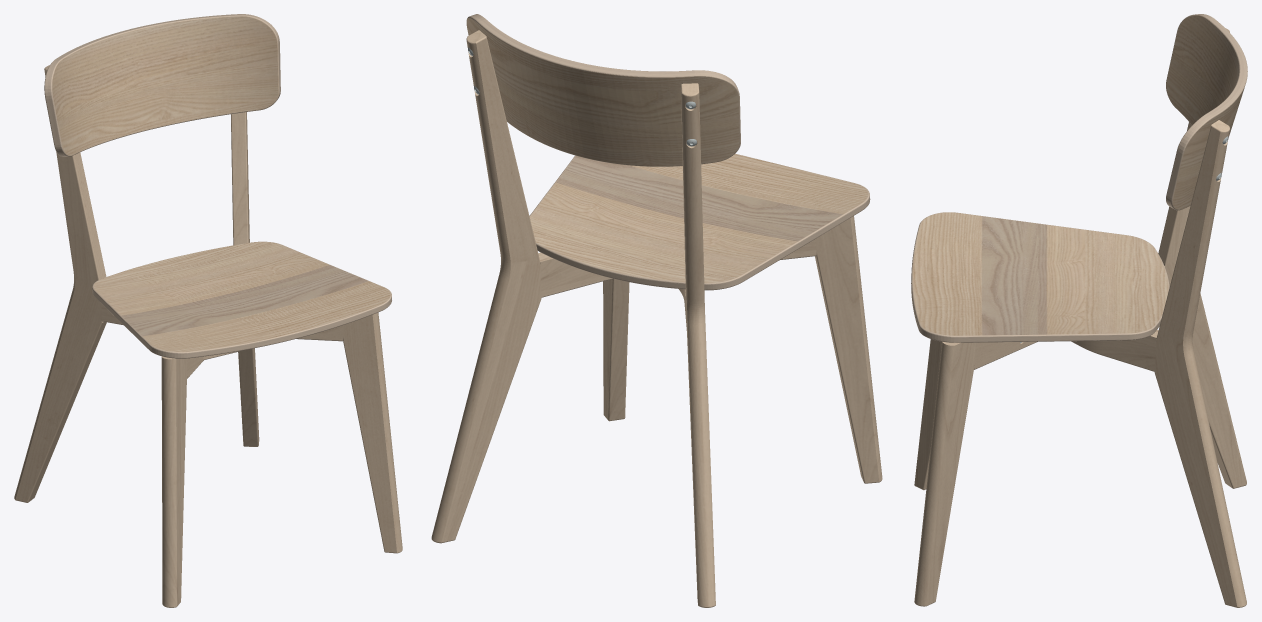
3 views of the same model, side by side, from view 1: azimuth 30°, elevation 25°; view 2: azimuth 150°, elevation 25°; view 3: azimuth 270°, elevation 25° (orthographic). The views are drawn at different scales.
Parts seen in each view (by area): view 1: world; view 2: world; view 3: world.
Boxes of the visible parts, x1,y1,x2,y2 form: world: [14, 14, 402, 607]; world: [431, 14, 882, 607]; world: [911, 14, 1247, 607].
Size of the model in its own units: 0.46 by 0.8 by 0.51.
1 material, 1 textured.
